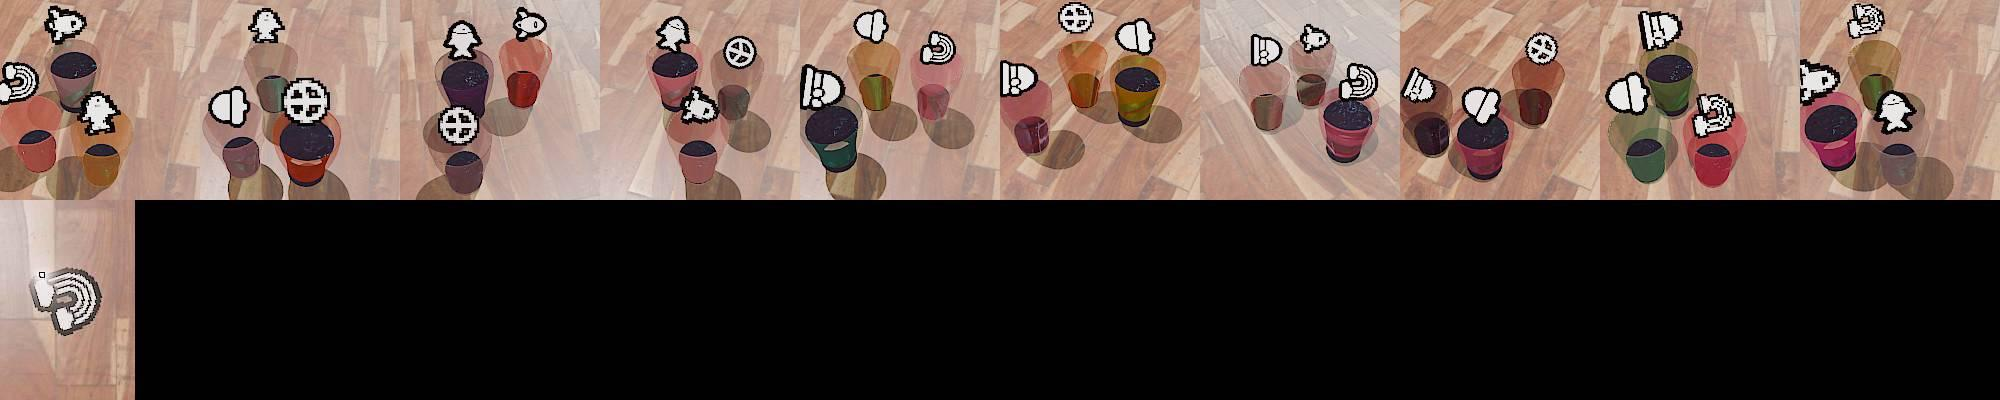icon: (29, 266, 105, 336), (279, 78, 332, 127), (74, 89, 124, 135), (1606, 70, 1651, 115), (443, 17, 486, 62), (1690, 93, 1736, 136), (800, 64, 843, 108), (1797, 59, 1841, 103), (1638, 10, 1682, 54), (43, 4, 87, 47), (1874, 90, 1917, 134), (208, 85, 251, 127), (437, 104, 481, 145), (0, 61, 41, 104), (1460, 85, 1503, 125), (679, 85, 719, 125), (245, 6, 286, 45), (1116, 17, 1156, 55), (654, 15, 693, 54), (1846, 3, 1884, 39), (1343, 61, 1378, 102), (1000, 60, 1037, 97), (511, 5, 547, 42), (920, 29, 957, 65), (853, 9, 889, 43), (722, 36, 756, 70), (1057, 1, 1093, 34), (1524, 32, 1559, 65), (1403, 66, 1435, 102), (1251, 32, 1282, 66), (1300, 23, 1329, 54)
